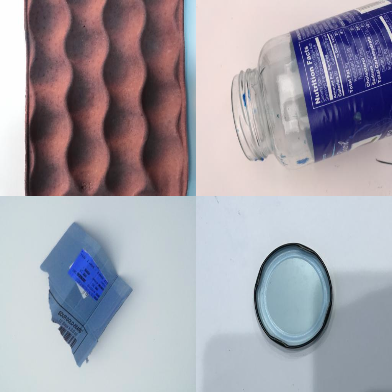cardboard: (24, 1, 189, 194), (40, 220, 133, 367)
glass: (230, 1, 392, 167)
metal: (254, 243, 333, 350)
